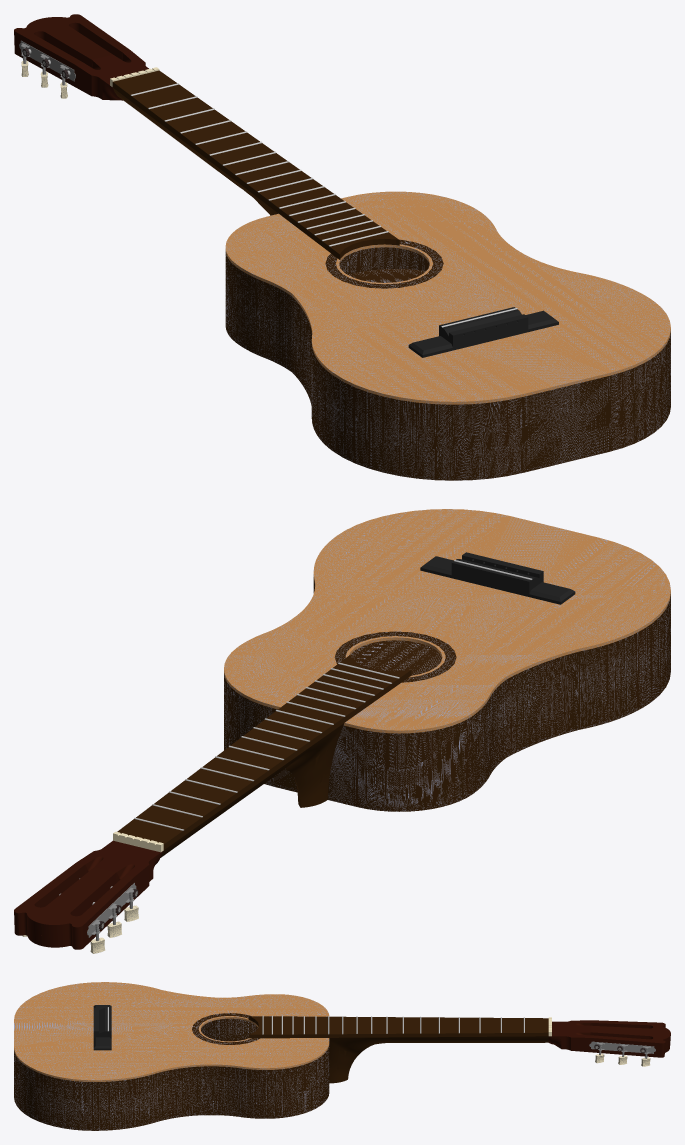
Rendered from guitar.dae.
The picture shows the model from 3 angles, top to bottom: view 1: azimuth 30°, elevation 25°; view 2: azimuth 150°, elevation 25°; view 3: azimuth 270°, elevation 25°; orthographic projection. The views are drawn at different scales.
Visible parts, largest first — view 1: body (×4), bridge, group_7, lower_bridge, group_0; view 2: body (×4), bridge, group_7, lower_bridge, group_0; view 3: body (×4), bridge, group_7, group_0, lower_bridge, tunning.
Boxes of the visible parts, x1,y1,x2,y2 form: body (×4): (225, 191, 670, 480); bridge: (112, 70, 399, 259); group_7: (14, 14, 148, 100); lower_bridge: (408, 307, 558, 357); group_0: (113, 88, 278, 215); body (×4): (224, 509, 670, 811); bridge: (117, 655, 411, 849); group_7: (14, 840, 163, 949); lower_bridge: (420, 552, 575, 604); group_0: (160, 723, 344, 857); body (×4): (14, 982, 329, 1130); bridge: (248, 1016, 548, 1038); group_7: (548, 1020, 670, 1057); group_0: (329, 1036, 548, 1083); lower_bridge: (93, 1005, 111, 1050); tunning: (589, 1041, 655, 1053).
Size of the model in its own units: 14.19 by 40.12 by 4.1.
